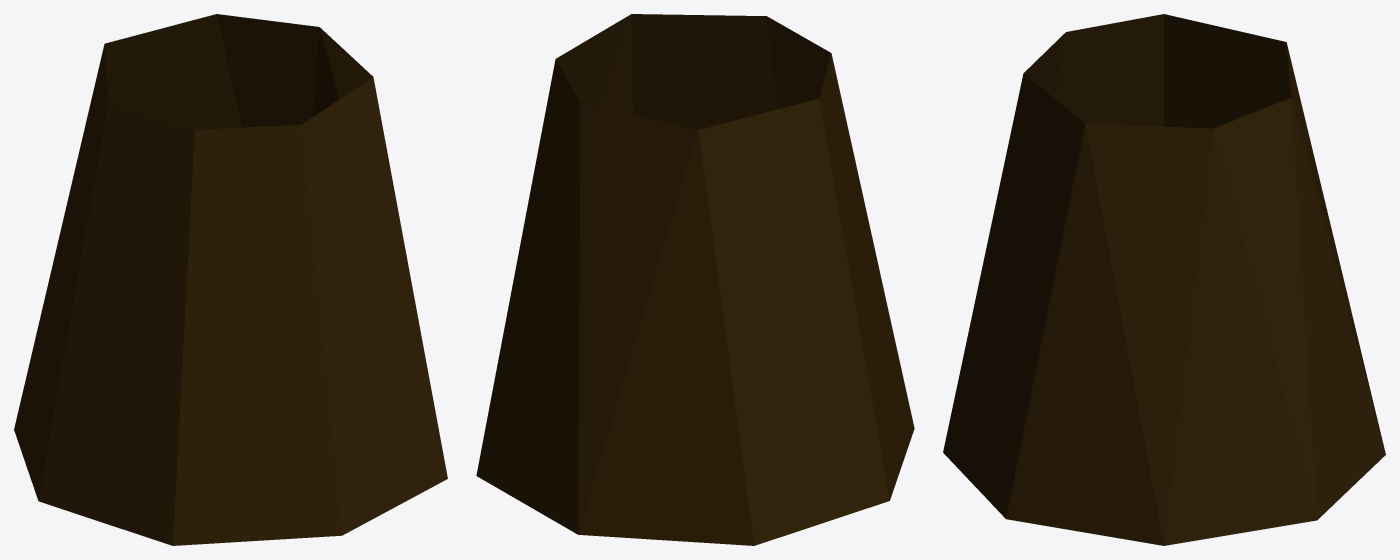
Rendered from Prefab_Xmas_Tree_Trunk.glb.
3 renders of one model, left to right at view 1: azimuth 30°, elevation 25°; view 2: azimuth 150°, elevation 25°; view 3: azimuth 270°, elevation 25°, orthographic.
Visible parts, largest first — view 1: Trunk; view 2: Trunk; view 3: Trunk.
Part boxes in pixels (x1=…): Trunk: x1=14, y1=14, x2=447, y2=545; Trunk: x1=476, y1=14, x2=914, y2=545; Trunk: x1=943, y1=14, x2=1385, y2=545.
Bounding box in the file's own units: 0.3308 × 0.3132 × 0.3316.
